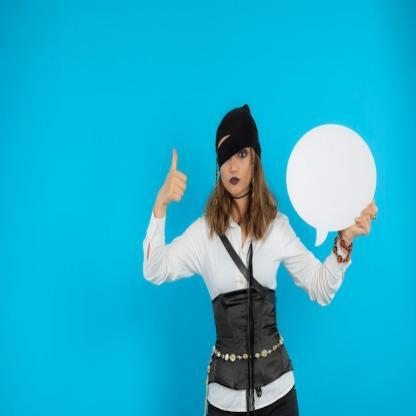thumb_up: (160, 144, 189, 207)
